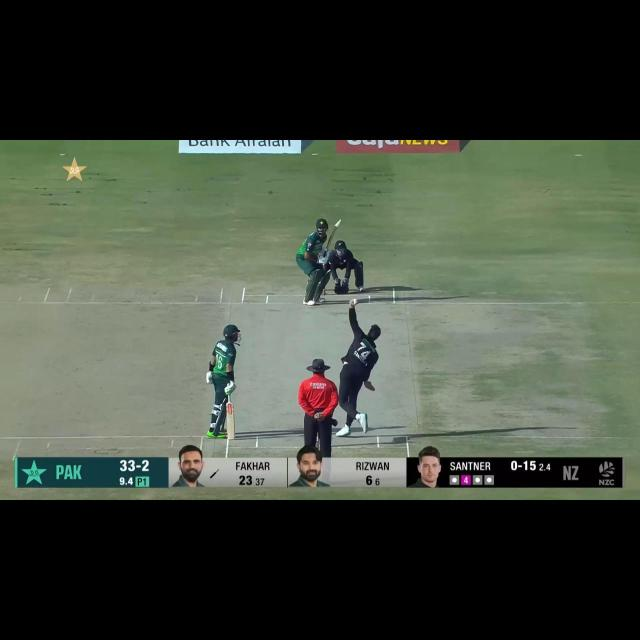bat: (324, 220, 341, 253), (226, 403, 237, 442)
toe: (227, 430, 235, 441), (333, 220, 340, 230)
